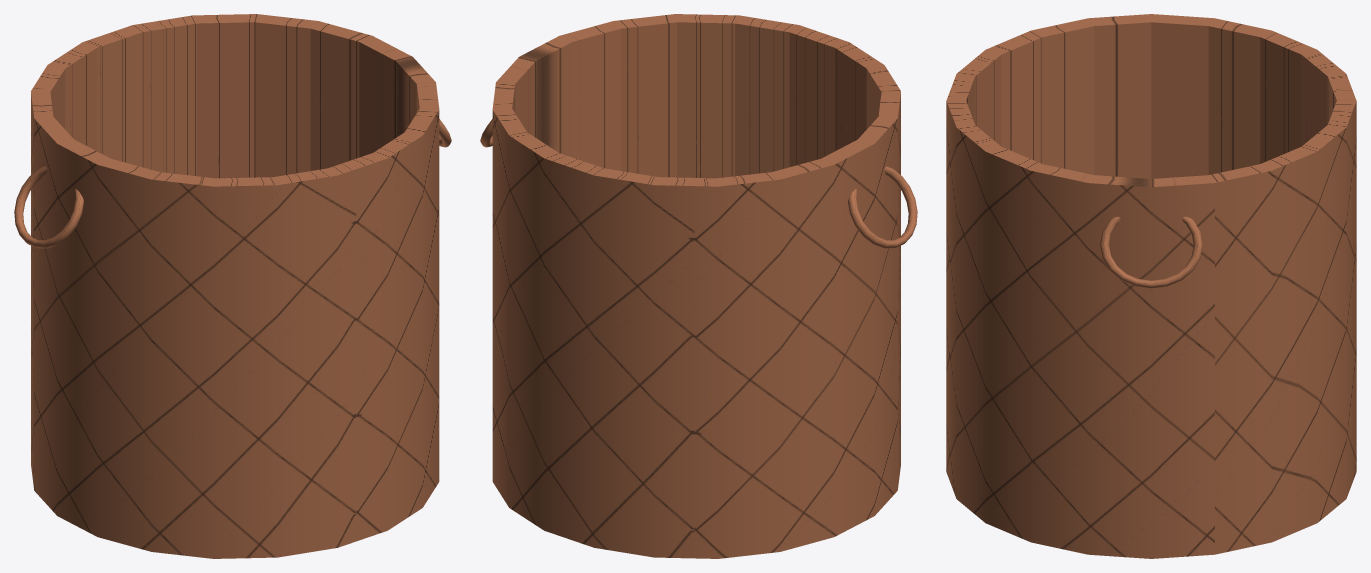
File: canasta.obj
3 renders of one model, left to right at view 1: azimuth 30°, elevation 25°; view 2: azimuth 150°, elevation 25°; view 3: azimuth 270°, elevation 25°, orthographic.
Parts seen in each view (by area): view 1: barril:pCylinder1, barril:pTorus1; view 2: barril:pCylinder1, barril:pTorus1; view 3: barril:pCylinder1, barril:pTorus2.
Boxes of the visible parts, left/top/right/bottom form: barril:pCylinder1: left=31, top=14, right=439, bottom=558; barril:pTorus1: left=14, top=166, right=83, bottom=248; barril:pCylinder1: left=492, top=14, right=900, bottom=558; barril:pTorus1: left=848, top=166, right=917, bottom=248; barril:pCylinder1: left=946, top=14, right=1356, bottom=558; barril:pTorus2: left=1100, top=216, right=1202, bottom=288.
Size of the model in its own units: 2.02 by 1.74 by 1.74.
1 material, 1 textured.
